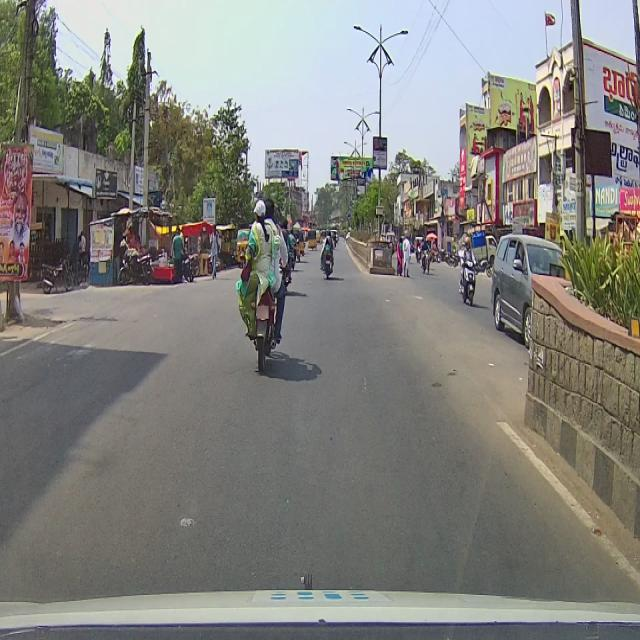motorcycle ahead at: (238, 280, 293, 368)
